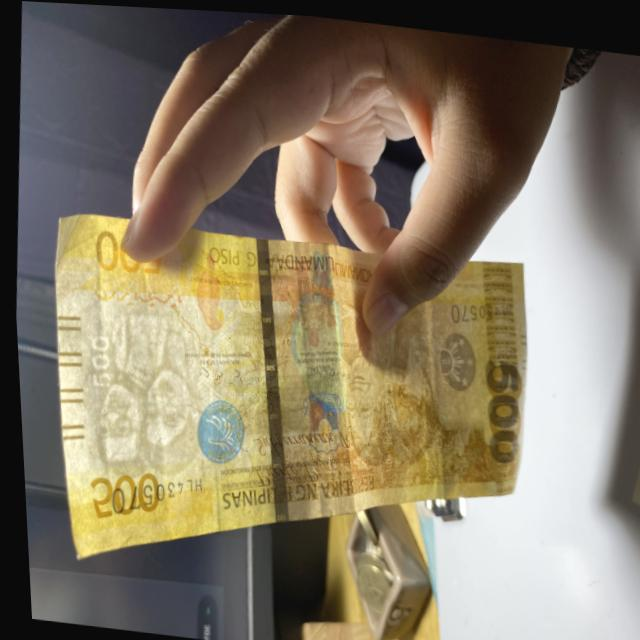500_big_parrot: (273, 245, 362, 422)
500_parrot_watermark: (181, 245, 235, 335)
value_watermark: (81, 329, 113, 392)
watermark: (84, 306, 203, 477)
